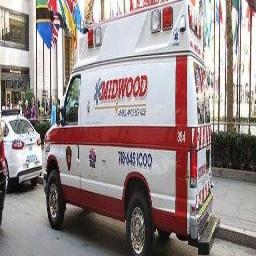ambulance: (44, 0, 218, 255)
